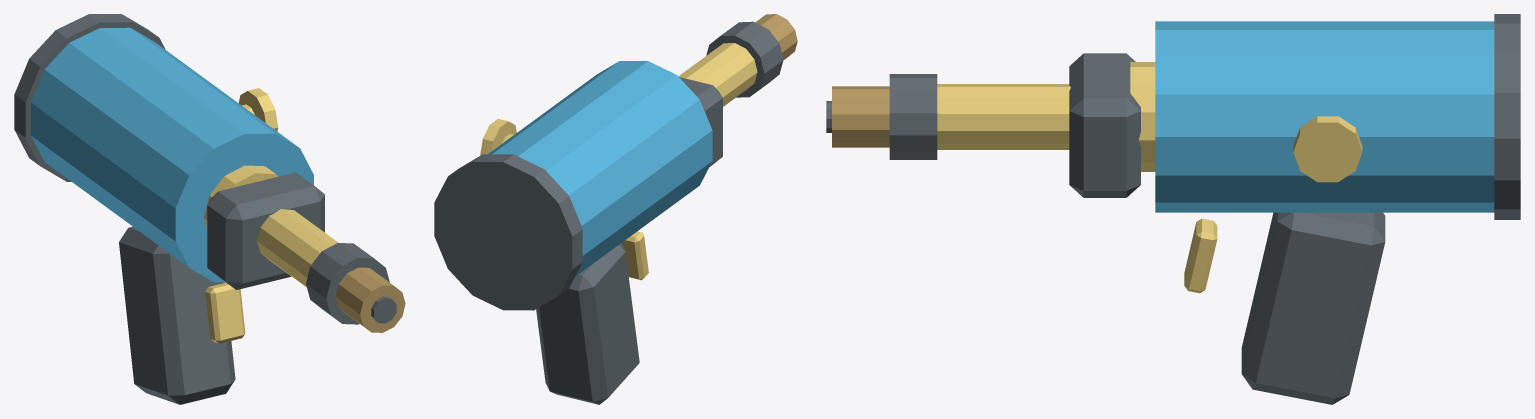
Rendered from RepairWelder.glb.
3 views of the same model, side by side, from view 1: azimuth 30°, elevation 25°; view 2: azimuth 150°, elevation 25°; view 3: azimuth 270°, elevation 25° (orthographic). The views are drawn at different scales.
Parts seen in each view (by area): view 1: BluePressureTank, BlackPistolGrip, BlackReceiver, TankRearCap, GoldBarrel, BlackHeatShield, GoldNozzle, GoldTrigger, TankFrontCollar, ValveWheel, NozzleOpening; view 2: BluePressureTank, TankRearCap, BlackPistolGrip, GoldBarrel, BlackHeatShield, BlackReceiver, GoldNozzle, GoldTrigger, ValveWheel; view 3: BluePressureTank, BlackPistolGrip, BlackReceiver, GoldBarrel, TankRearCap, BlackHeatShield, ValveWheel, GoldNozzle, TankFrontCollar, GoldTrigger.
Boxes of the visible parts, x1=… form: BluePressureTank: x1=31, y1=27, x2=313, y2=282; BlackPistolGrip: x1=119, y1=226, x2=235, y2=404; BlackReceiver: x1=207, y1=172, x2=324, y2=289; TankRearCap: x1=14, y1=14, x2=165, y2=181; GoldBarrel: x1=257, y1=209, x2=338, y2=287; BlackHeatShield: x1=306, y1=243, x2=389, y2=324; GoldNozzle: x1=335, y1=267, x2=405, y2=332; GoldTrigger: x1=205, y1=282, x2=245, y2=343; TankFrontCollar: x1=204, y1=165, x2=278, y2=229; ValveWheel: x1=238, y1=88, x2=278, y2=131; NozzleOpening: x1=371, y1=296, x2=396, y2=323; BluePressureTank: x1=488, y1=61, x2=712, y2=276; TankRearCap: x1=434, y1=154, x2=582, y2=310; BlackPistolGrip: x1=536, y1=243, x2=639, y2=404; GoldBarrel: x1=678, y1=43, x2=757, y2=106; BlackHeatShield: x1=706, y1=21, x2=783, y2=97; BlackReceiver: x1=679, y1=77, x2=722, y2=166; GoldNozzle: x1=755, y1=14, x2=797, y2=60; GoldTrigger: x1=621, y1=231, x2=648, y2=280; ValveWheel: x1=480, y1=118, x2=516, y2=155; BluePressureTank: x1=1155, y1=21, x2=1494, y2=212; BlackPistolGrip: x1=1241, y1=212, x2=1385, y2=404; BlackReceiver: x1=1069, y1=53, x2=1140, y2=197; GoldBarrel: x1=937, y1=84, x2=1070, y2=149; TankRearCap: x1=1494, y1=14, x2=1520, y2=219; BlackHeatShield: x1=889, y1=74, x2=937, y2=159; ValveWheel: x1=1293, y1=116, x2=1362, y2=182; GoldNozzle: x1=832, y1=86, x2=889, y2=147; TankFrontCollar: x1=1130, y1=62, x2=1155, y2=171; GoldTrigger: x1=1184, y1=218, x2=1217, y2=293.
Size of the model in its own units: 0.4706 by 0.8481 by 1.45.
